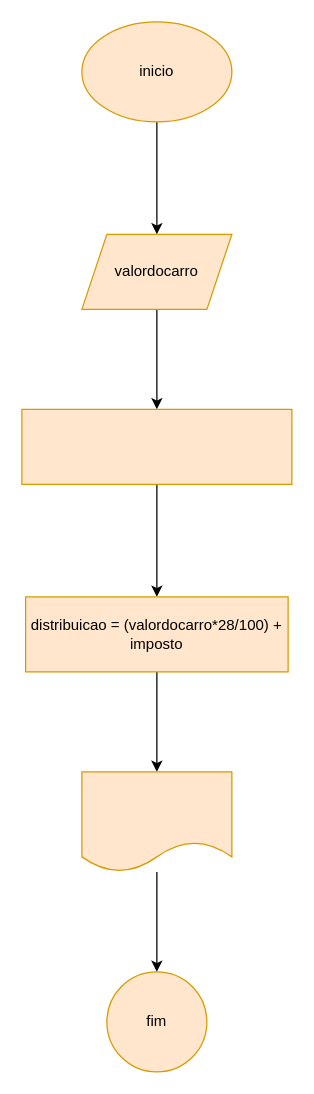
Image size: 314x1094. Some labels were removed from this diagram. Each missing label, with the box of its shape:
imposto = (valordocarro*45/100) + valordocarro: (21, 408, 292, 484)
valorfinal: (81, 771, 232, 872)
